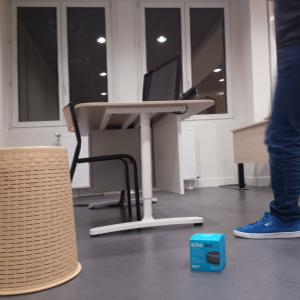medium: (1, 145, 81, 295)
small: (190, 232, 226, 272)
